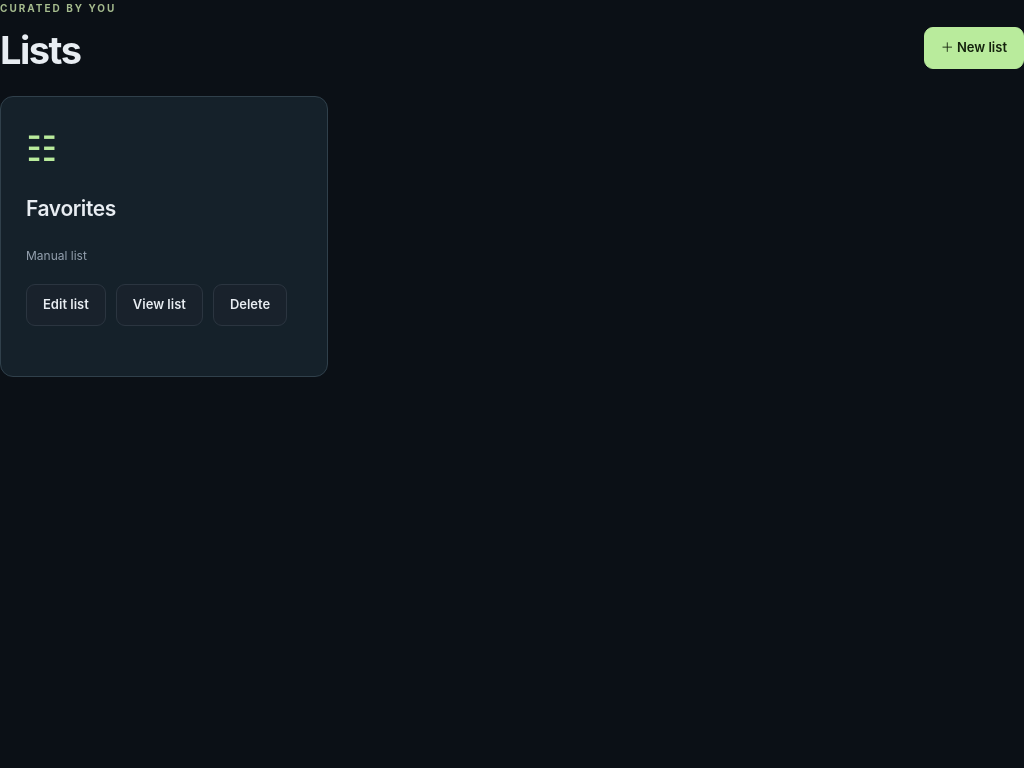
Test: smart preview failures have explicit retry and cannot be saved until recovered
The width and height of the screenshot is (1024, 768).
Expected: the heading "Favorites" is shown, 26,196 -> 116,221
Click the button "＋ New list": click(974, 48) 924,27 -> 1023,69
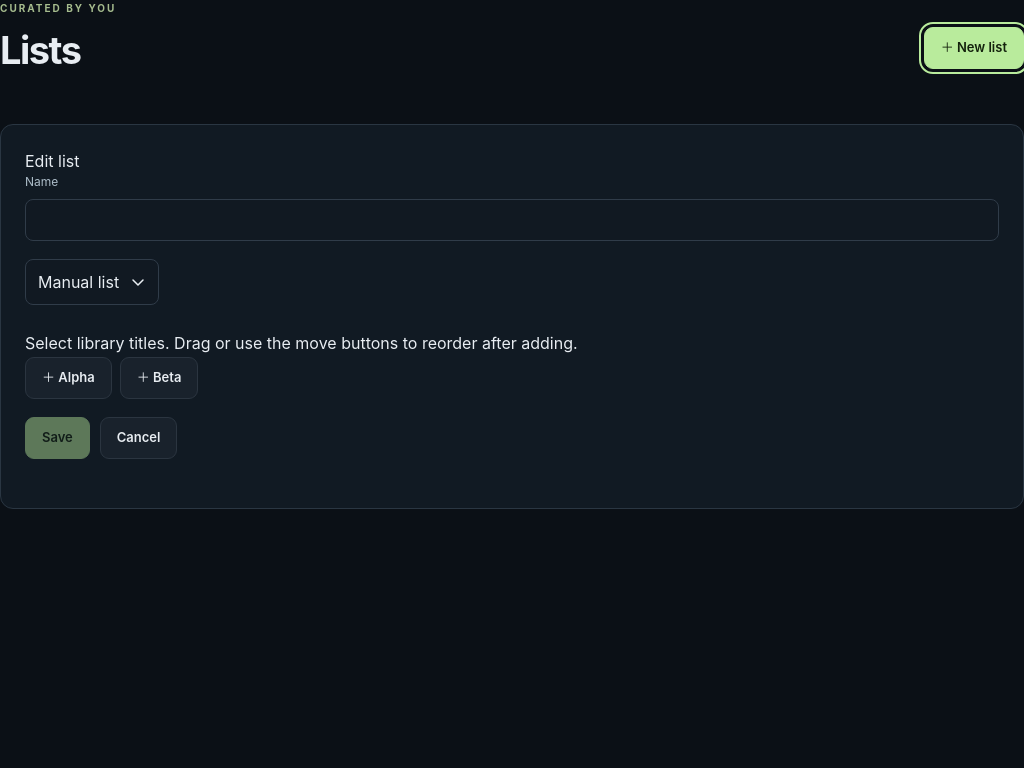
In the field labelled "Name": (512, 220) 25,199 -> 999,241, type "Recovered preview"
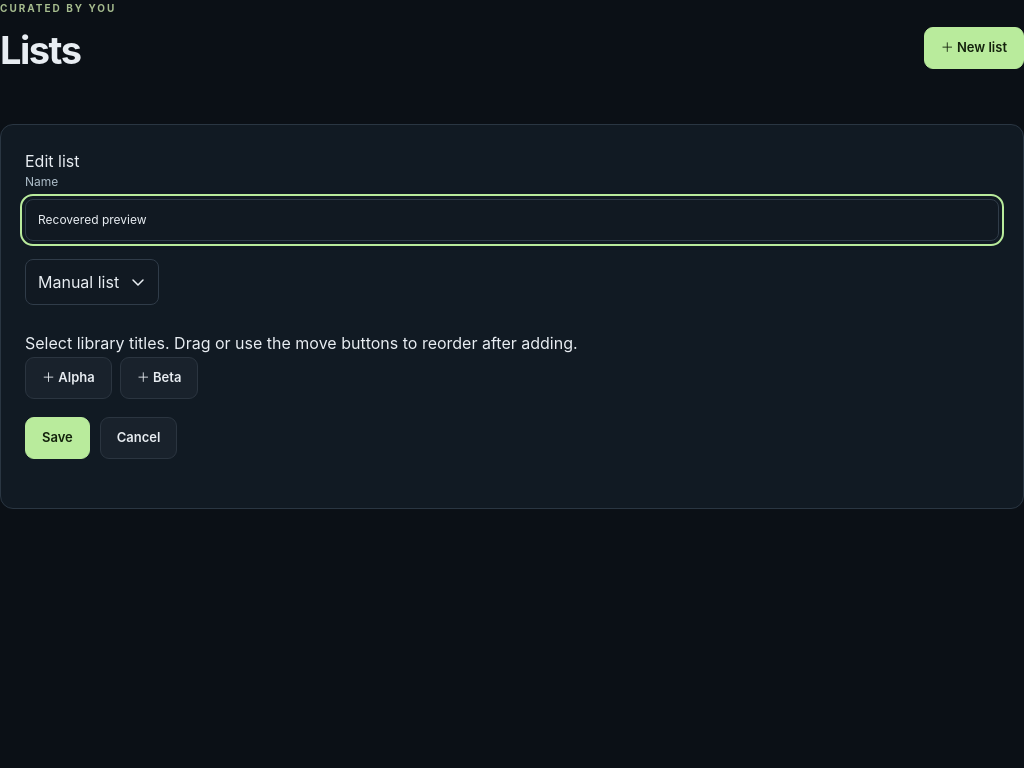
Select "Smart list" in the dropdown named "Content type": (92, 282) 25,259 -> 159,305
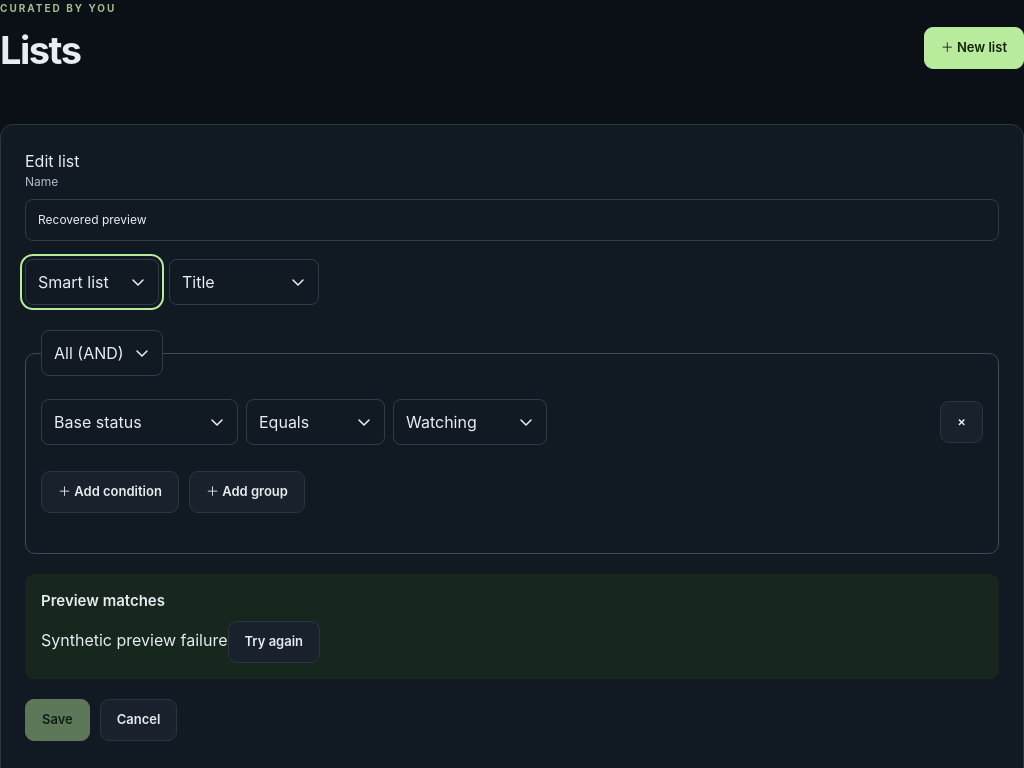
Expected: the button "Save" is disabled, 25,699 -> 90,741
Click the button "Try again": click(274, 642) 228,621 -> 320,663
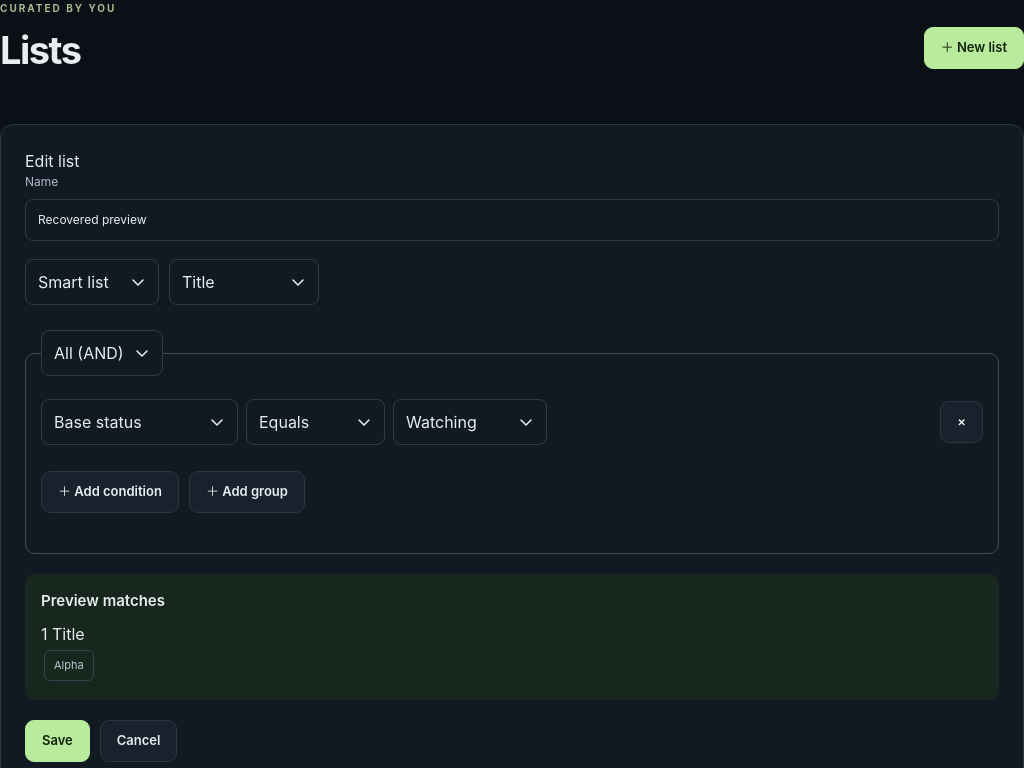
Expected: the button "Save" is enabled, 25,720 -> 90,762
Expected: the link "Alpha" is shown, 44,650 -> 94,681
